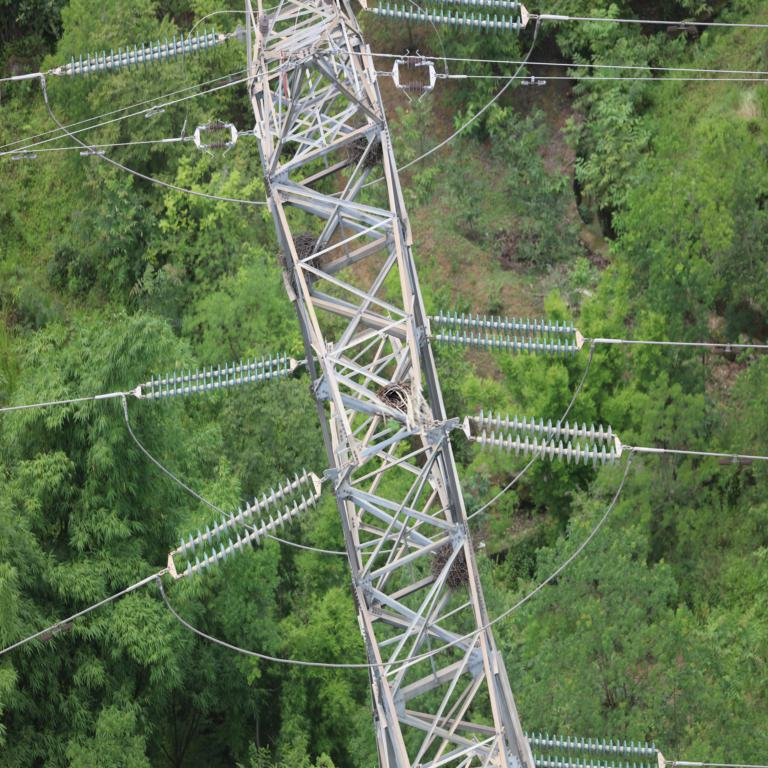nest: (276, 236, 324, 285), (433, 541, 468, 589), (377, 382, 415, 420), (348, 133, 380, 167)
